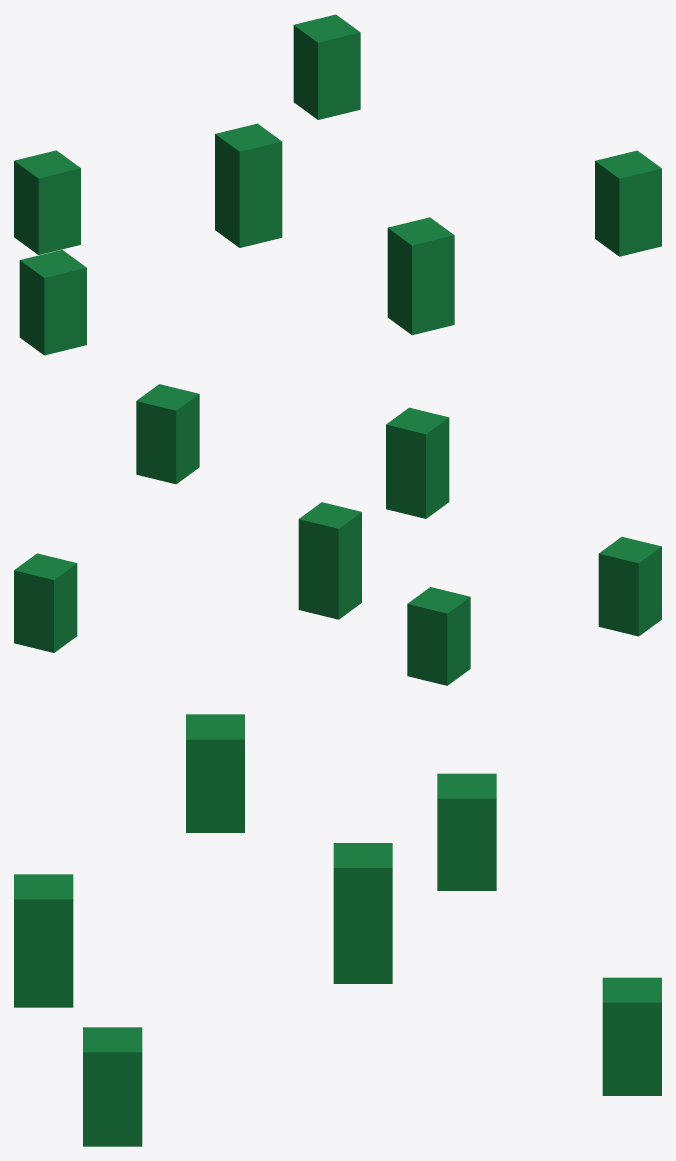
Rendered from short_grass.fbx.
3 views of the same model, one above another, from view 1: azimuth 30°, elevation 25°; view 2: azimuth 150°, elevation 25°; view 3: azimuth 270°, elevation 25° (orthographic). The views are drawn at different scales.
Visible parts, largest first — view 1: Stalk 1, Stalk 5, Stalk 6, Stalk 2, Stalk 4, Stalk 3; view 2: Stalk 1, Stalk 5, Stalk 4, Stalk 6, Stalk 2, Stalk 3; view 3: Stalk 1, Stalk 5, Stalk 4, Stalk 2, Stalk 3, Stalk 6.
Boxes of the visible parts, bbox=[...] form: Stalk 1: bbox=[215, 123, 282, 247]; Stalk 5: bbox=[387, 217, 454, 335]; Stalk 6: bbox=[19, 250, 86, 355]; Stalk 2: bbox=[293, 14, 360, 119]; Stalk 4: bbox=[595, 150, 661, 256]; Stalk 3: bbox=[14, 150, 80, 254]; Stalk 1: bbox=[298, 502, 361, 619]; Stalk 5: bbox=[386, 407, 449, 518]; Stalk 4: bbox=[136, 384, 199, 484]; Stalk 6: bbox=[598, 536, 661, 636]; Stalk 2: bbox=[14, 553, 77, 652]; Stalk 3: bbox=[407, 587, 470, 685]; Stalk 1: bbox=[333, 843, 392, 983]; Stalk 5: bbox=[14, 874, 73, 1007]; Stalk 4: bbox=[83, 1027, 142, 1146]; Stalk 2: bbox=[602, 977, 661, 1095]; Stalk 3: bbox=[437, 773, 496, 890]; Stalk 6: bbox=[186, 714, 244, 832].
Size of the model in its own units: 135 by 21.63 by 109.
